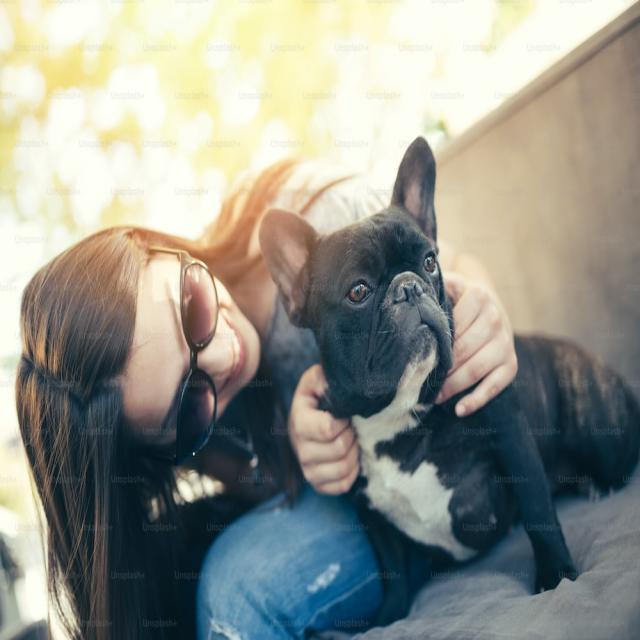bulldog: (256, 126, 478, 419)
